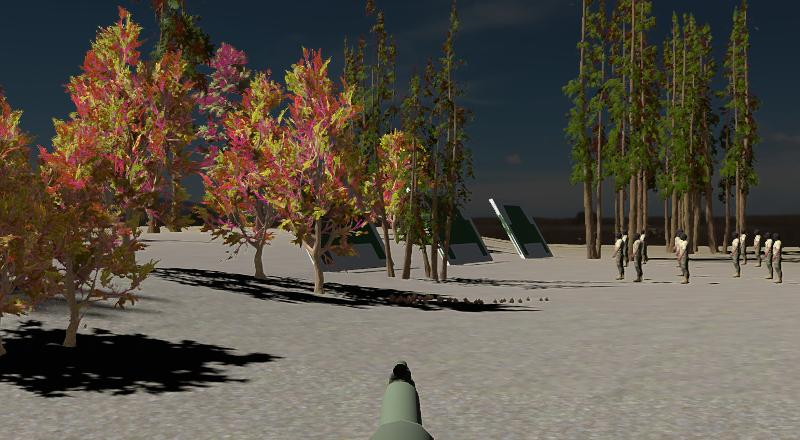Human: (631, 225, 648, 282), (612, 226, 627, 281), (677, 230, 691, 284), (730, 228, 743, 278), (770, 232, 782, 282), (764, 232, 775, 280)
